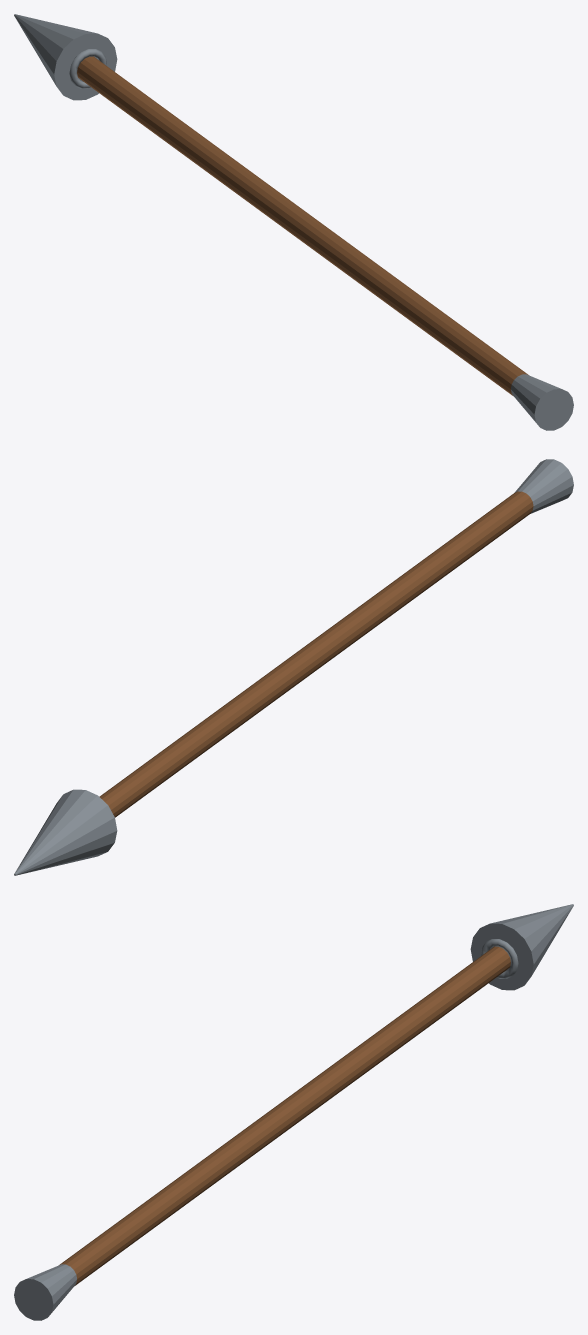
Rendered from WPN_Spear_A_FP_v01.glb.
3 views of the same model, one above another, from view 1: azimuth 30°, elevation 25°; view 2: azimuth 150°, elevation 25°; view 3: azimuth 330°, elevation 25° (orthographic).
Visible parts, largest first — view 1: MESH_Weapon; view 2: MESH_Weapon; view 3: MESH_Weapon.
Boxes of the visible parts, <box> form: MESH_Weapon: <box>14,14,573,430</box>; MESH_Weapon: <box>14,459,573,875</box>; MESH_Weapon: <box>14,904,573,1320</box>.
Size of the model in its own units: 0.144 by 0.144 by 2.13.
